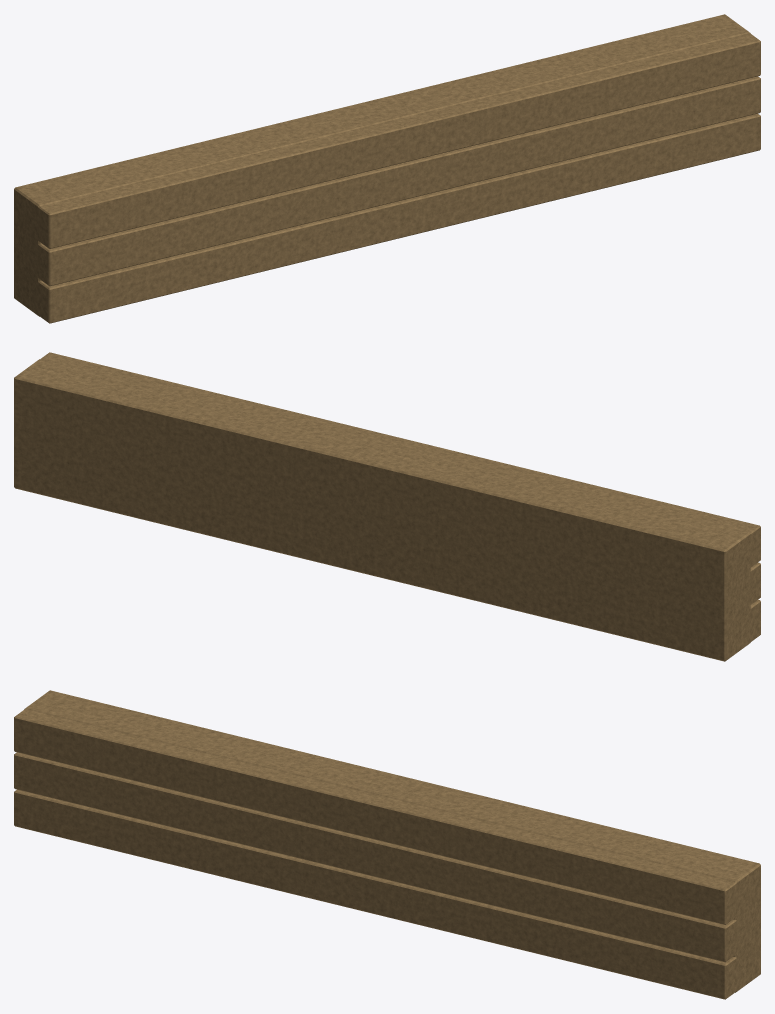
The model's file is TOP_lod1.glb.
3 views of the same model, one above another, from view 1: azimuth 30°, elevation 25°; view 2: azimuth 150°, elevation 25°; view 3: azimuth 330°, elevation 25° (orthographic).
Parts seen in each view (by area): view 1: TOP_LOD1; view 2: TOP_LOD1; view 3: TOP_LOD1.
Part boxes in pixels (x1,y1,x2,y2): TOP_LOD1: (14, 14, 760, 323); TOP_LOD1: (14, 352, 760, 661); TOP_LOD1: (14, 690, 760, 999).
Size of the model in its own units: 4 by 0.6 by 0.35.
2 materials, 2 textured.
